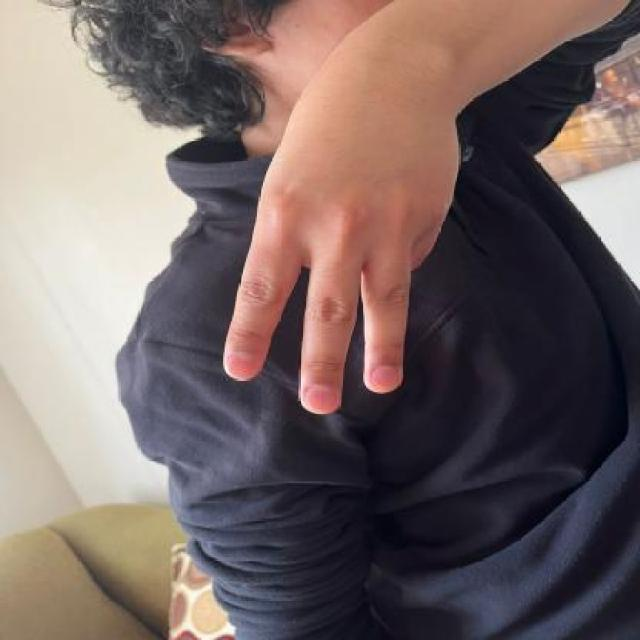M: (217, 75, 458, 419)
